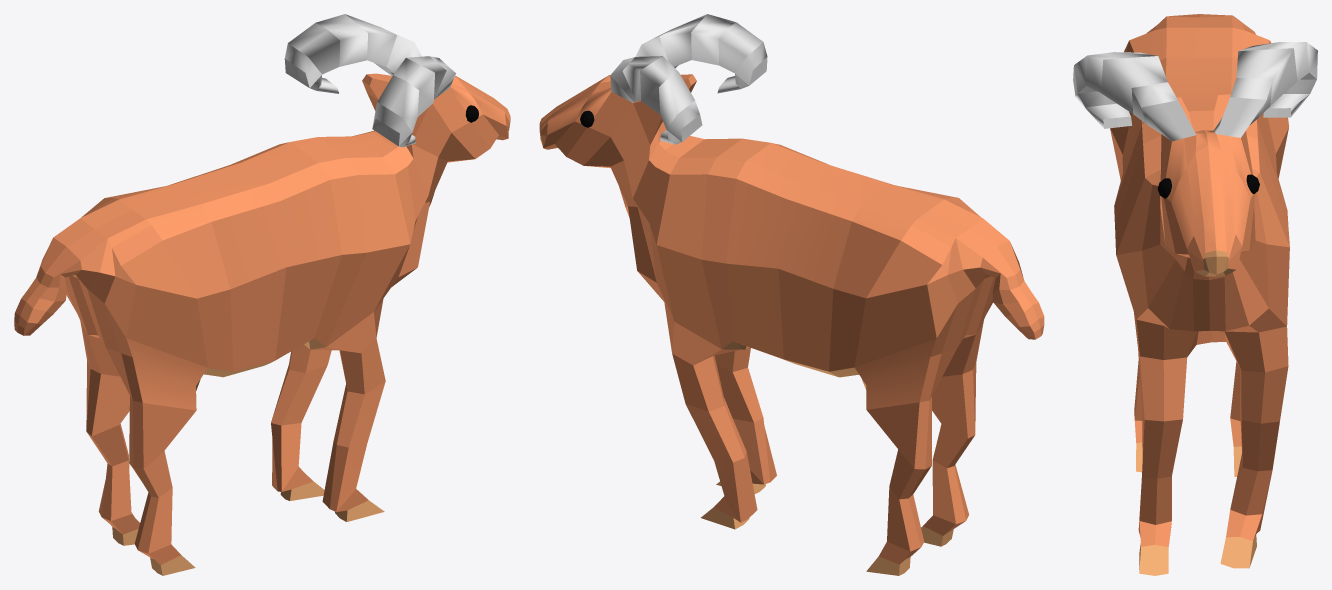
The model's file is sheep.fbx.
3 views of the same model, side by side, from view 1: azimuth 30°, elevation 25°; view 2: azimuth 150°, elevation 25°; view 3: azimuth 270°, elevation 25° (orthographic). The views are drawn at different scales.
Parts seen in each view (by area): view 1: Plane.001; view 2: Plane.001; view 3: Plane.001.
Boxes of the visible parts, bbox=[...] form: Plane.001: bbox=[14, 14, 510, 575]; Plane.001: bbox=[539, 14, 1044, 575]; Plane.001: bbox=[1073, 14, 1317, 575].
Bounding box in the file's own units: 353 × 312 × 125.
